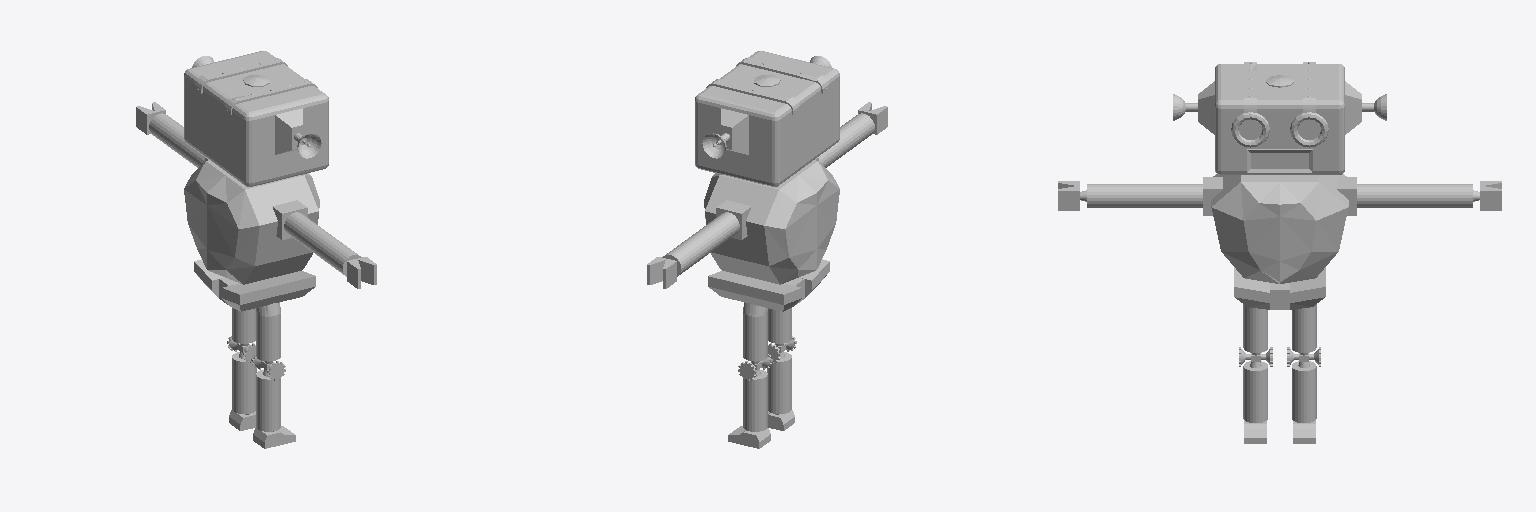
Rendered from Robot_enemy_01 _ver03.obj.
The picture shows the model from 3 angles: view 1: azimuth 30°, elevation 25°; view 2: azimuth 150°, elevation 25°; view 3: azimuth 270°, elevation 25°; orthographic projection.
Visible parts, largest first — view 1: BaseObj.obj; view 2: BaseObj.obj; view 3: BaseObj.obj.
Boxes of the visible parts, box(x1,y1,x2,y2) form: BaseObj.obj: box(136, 51, 376, 448); BaseObj.obj: box(647, 51, 887, 448); BaseObj.obj: box(1058, 62, 1501, 443).
Bounding box in the file's own units: 0.8989 × 3.12 × 3.53.